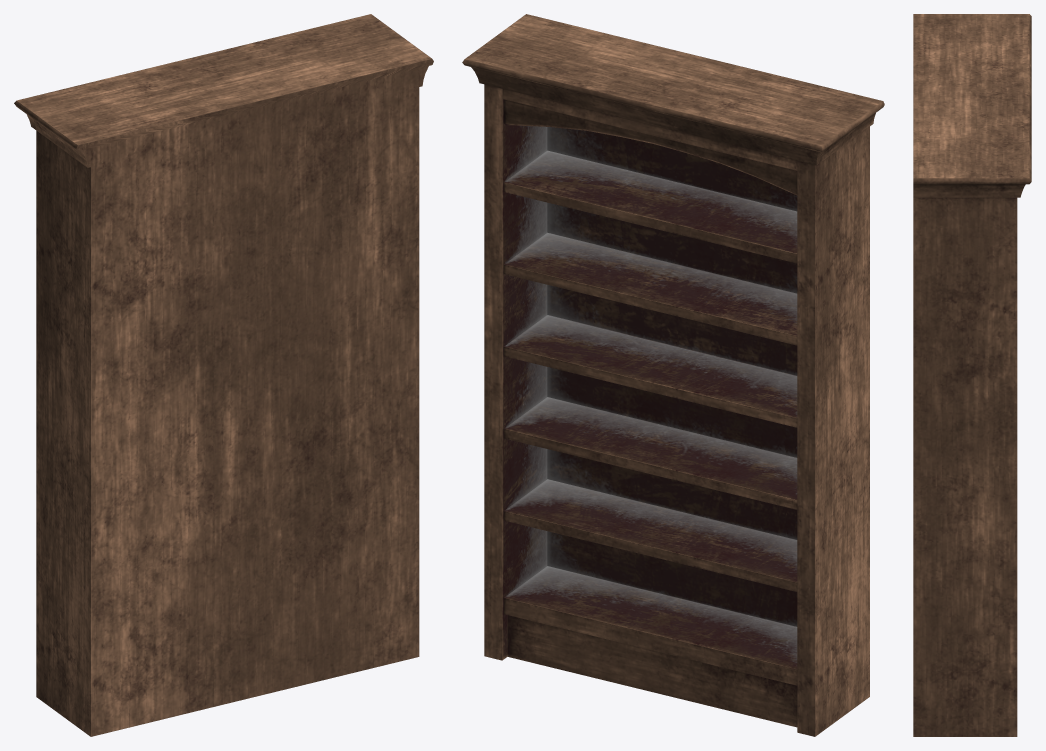
The model's file is book_shelf.glb.
The picture shows the model from 3 angles, left to right: view 1: azimuth 30°, elevation 25°; view 2: azimuth 150°, elevation 25°; view 3: azimuth 270°, elevation 25°; orthographic projection. The views are drawn at different scales.
Visible parts, largest first — view 1: BookShelf_low; view 2: BookShelf_low; view 3: BookShelf_low.
Boxes of the visible parts, bbox=[...] form: BookShelf_low: bbox=[14, 14, 433, 736]; BookShelf_low: bbox=[462, 14, 884, 736]; BookShelf_low: bbox=[913, 14, 1031, 736].
Bounding box in the file's own units: 2.76 × 4.38 × 0.8303.
Materials: 1 (1 with a texture image).
